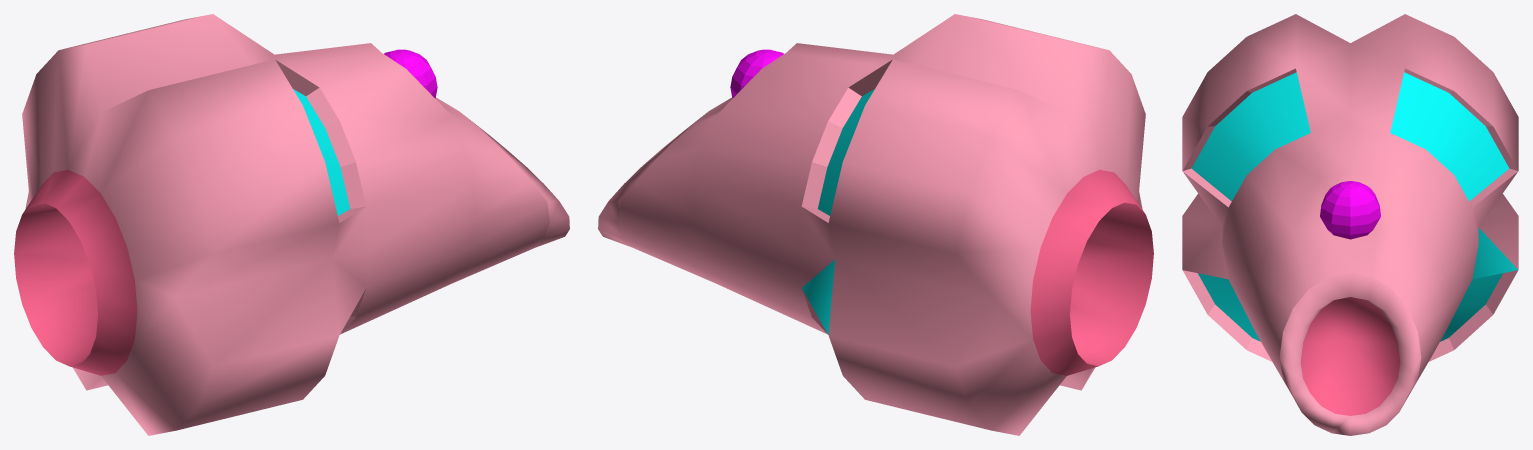
The model's file is battleship_04_incolor_03.fbx.
3 renders of one model, left to right at view 1: azimuth 30°, elevation 25°; view 2: azimuth 150°, elevation 25°; view 3: azimuth 270°, elevation 25°, orthographic. The views are drawn at different scales.
Parts seen in each view (by area): view 1: polySurface3.001; view 2: polySurface3.001; view 3: polySurface3.001.
Part boxes in pixels (x1=…): polySurface3.001: x1=14, y1=14, x2=569, y2=435; polySurface3.001: x1=598, y1=14, x2=1153, y2=435; polySurface3.001: x1=1182, y1=14, x2=1518, y2=435.
Bounding box in the file's own units: 3.08 × 2.08 × 2.08.
